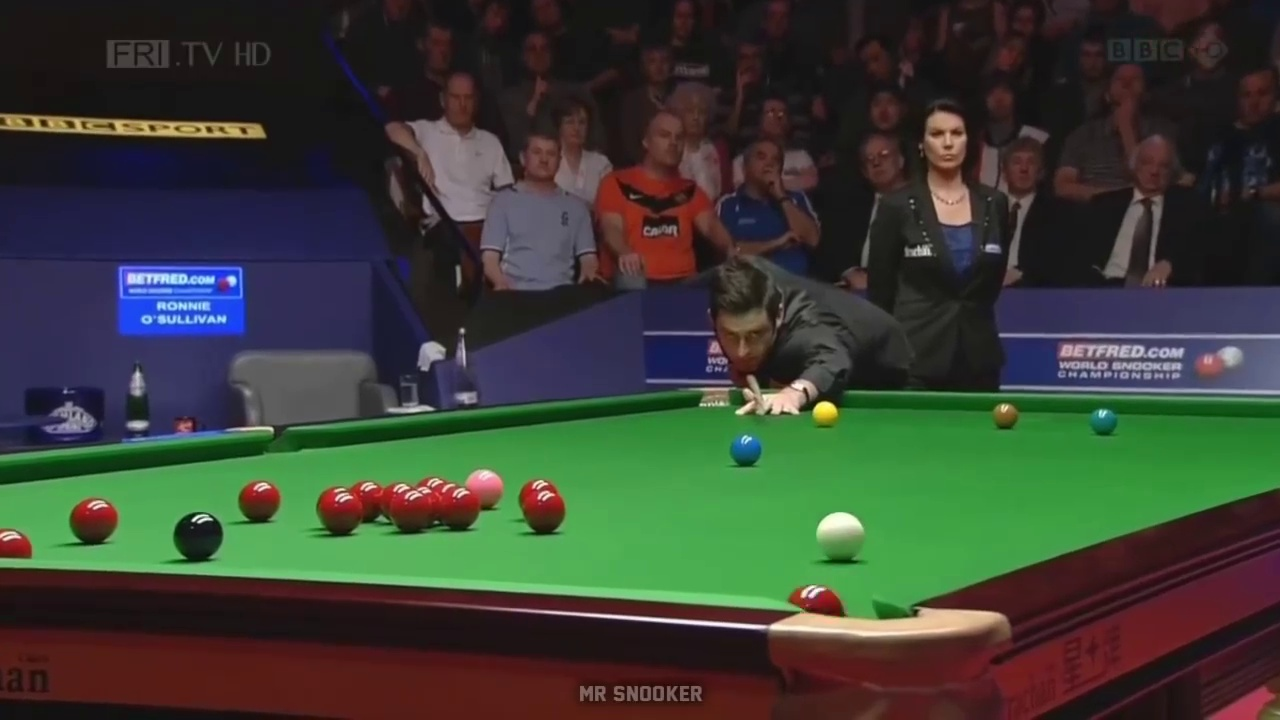black: (171, 514, 223, 561)
blue: (729, 431, 762, 465)
brown: (990, 402, 1019, 429)
green: (1092, 411, 1117, 435)
red: (67, 499, 118, 541), (318, 492, 362, 534), (521, 494, 566, 535), (391, 490, 433, 533), (238, 481, 282, 522), (443, 484, 482, 530)
white: (817, 512, 863, 562)
yellow: (812, 397, 840, 427)
